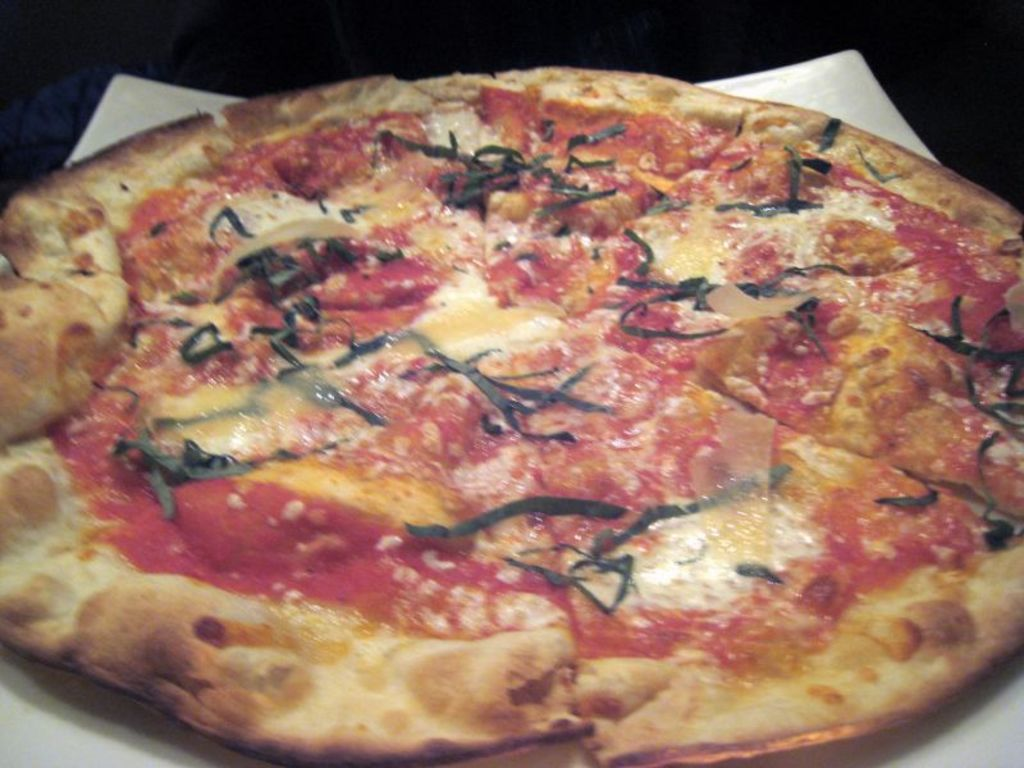Pizza: (0, 56, 1021, 762)
